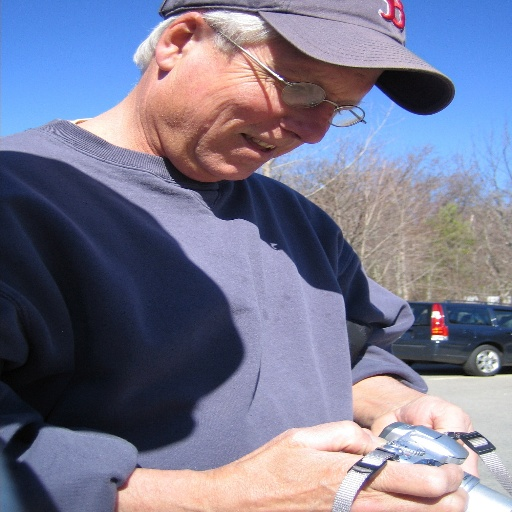hand: (107, 419, 473, 502), (368, 391, 476, 468)
